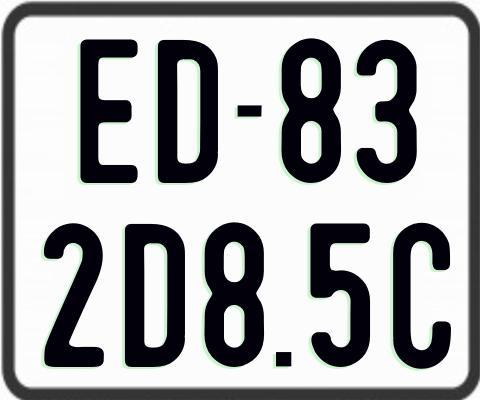2: (43, 221, 109, 365)
3: (354, 39, 415, 186)
5: (307, 223, 372, 368)
8: (279, 35, 343, 185), (204, 222, 266, 373)
C: (391, 221, 455, 367)
D: (155, 39, 216, 186), (125, 221, 185, 368)
E: (77, 37, 140, 181)
